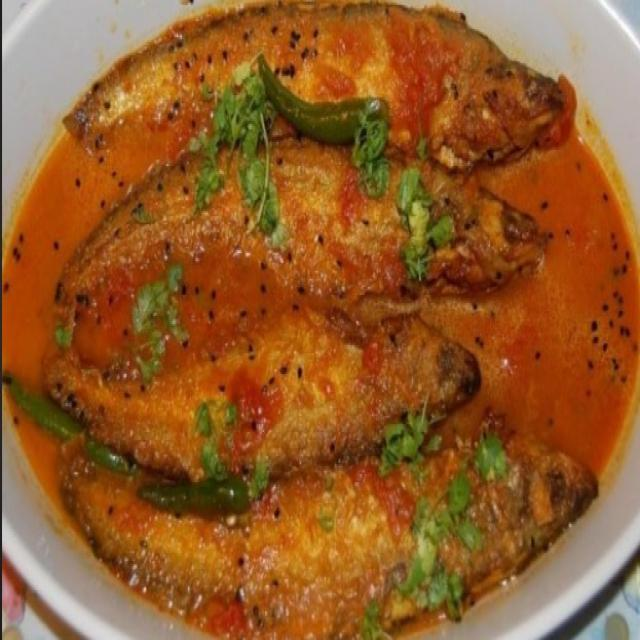FISH CURRY: (2, 0, 639, 638)
